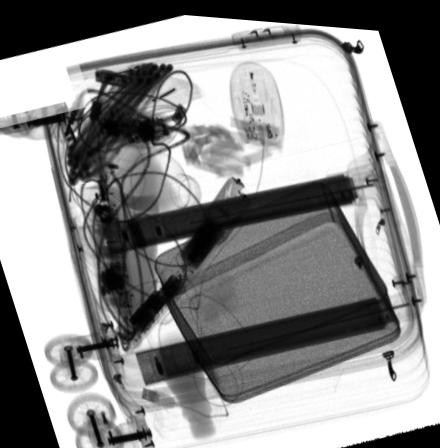Baton: (114, 172, 253, 353)
